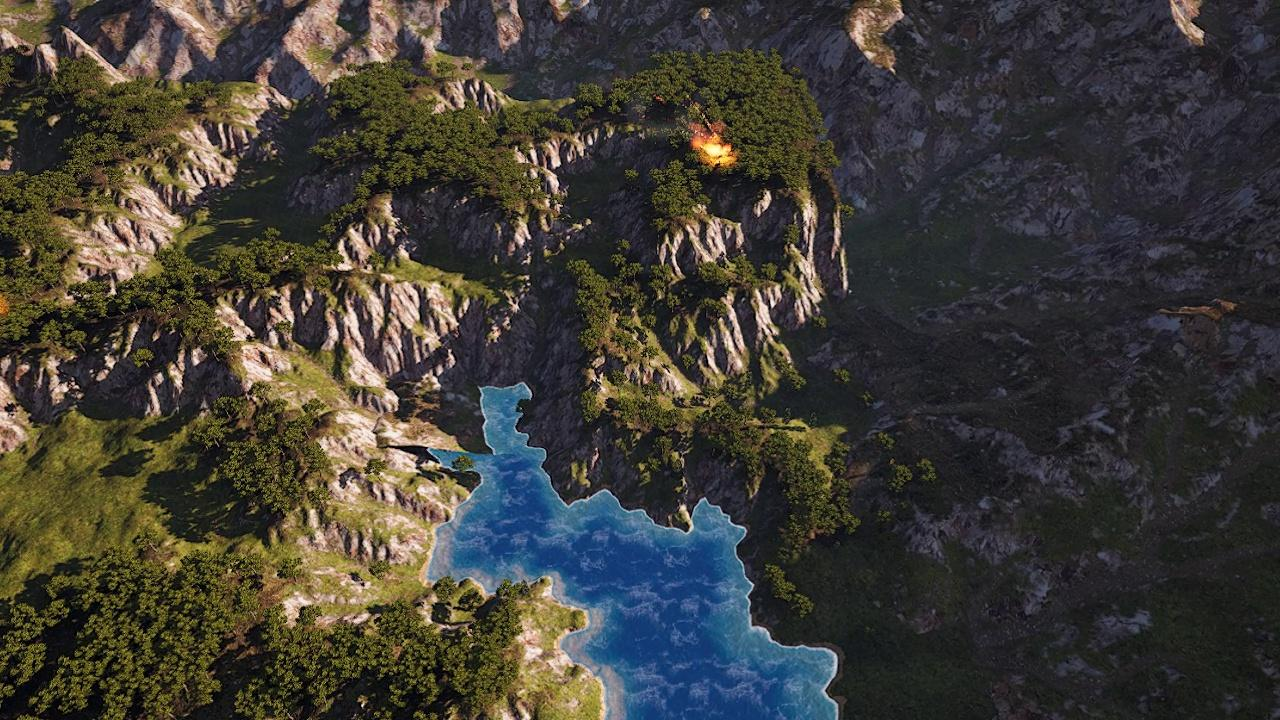fire: (692, 132, 733, 163)
